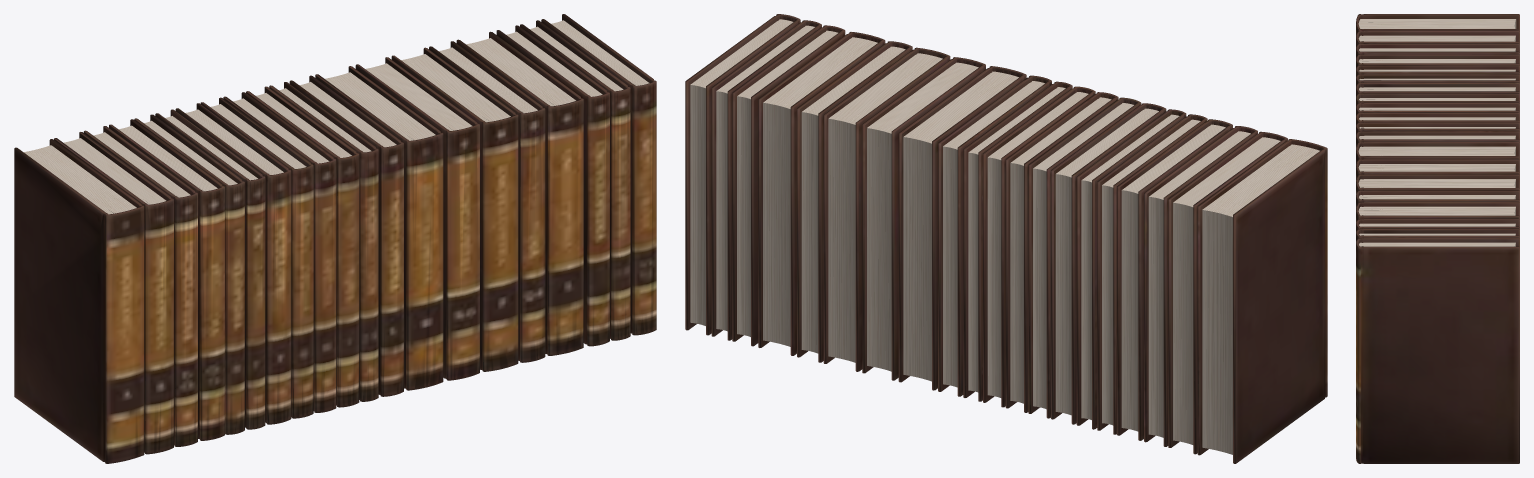
Rendered from book_encyclopedia_set_01.glb.
The picture shows the model from 3 angles, left to right: view 1: azimuth 30°, elevation 25°; view 2: azimuth 150°, elevation 25°; view 3: azimuth 270°, elevation 25°; orthographic projection. The views are drawn at different scales.
Visible parts, largest first — view 1: book_encyclopedia_set_01_book01, book_encyclopedia_set_01_book13, book_encyclopedia_set_01_book15, book_encyclopedia_set_01_book17, book_encyclopedia_set_01_book14, book_encyclopedia_set_01_book02, book_encyclopedia_set_01_book16, book_encyclopedia_set_01_book04, book_encyclopedia_set_01_book18, book_encyclopedia_set_01_book20, book_encyclopedia_set_01_book07, book_encyclopedia_set_01_book12 (+8 smaller); view 2: book_encyclopedia_set_01_book01, book_encyclopedia_set_01_book13, book_encyclopedia_set_01_book15, book_encyclopedia_set_01_book17, book_encyclopedia_set_01_book14, book_encyclopedia_set_01_book02, book_encyclopedia_set_01_book04, book_encyclopedia_set_01_book16, book_encyclopedia_set_01_book18, book_encyclopedia_set_01_book20, book_encyclopedia_set_01_book07, book_encyclopedia_set_01_book12 (+8 smaller); view 3: book_encyclopedia_set_01_book20, book_encyclopedia_set_01_book13, book_encyclopedia_set_01_book01, book_encyclopedia_set_01_book17, book_encyclopedia_set_01_book15, book_encyclopedia_set_01_book14, book_encyclopedia_set_01_book02, book_encyclopedia_set_01_book16, book_encyclopedia_set_01_book03, book_encyclopedia_set_01_book12, book_encyclopedia_set_01_book04, book_encyclopedia_set_01_book07 (+8 smaller).
Part boxes in pixels (x1,y1,x2,y2): book_encyclopedia_set_01_book01: (14,139,144,463); book_encyclopedia_set_01_book13: (315,66,443,390); book_encyclopedia_set_01_book15: (391,47,518,371); book_encyclopedia_set_01_book17: (456,31,583,355); book_encyclopedia_set_01_book14: (355,57,479,380); book_encyclopedia_set_01_book02: (54,132,173,454); book_encyclopedia_set_01_book16: (429,41,545,362); book_encyclopedia_set_01_book04: (109,119,224,440); book_encyclopedia_set_01_book18: (496,25,609,346); book_encyclopedia_set_01_book20: (541,14,656,335); book_encyclopedia_set_01_book07: (175,103,291,424); book_encyclopedia_set_01_book12: (289,75,403,396); book_encyclopedia_set_01_book01: (1197,139,1327,463); book_encyclopedia_set_01_book13: (898,66,1026,390); book_encyclopedia_set_01_book15: (823,47,950,371); book_encyclopedia_set_01_book17: (758,32,885,355); book_encyclopedia_set_01_book14: (862,57,985,380); book_encyclopedia_set_01_book02: (1168,131,1287,454); book_encyclopedia_set_01_book04: (1117,119,1232,440); book_encyclopedia_set_01_book16: (797,41,912,362); book_encyclopedia_set_01_book18: (732,25,845,346); book_encyclopedia_set_01_book20: (685,14,800,335); book_encyclopedia_set_01_book07: (1051,103,1166,424); book_encyclopedia_set_01_book12: (938,75,1051,396); book_encyclopedia_set_01_book20: (1356,238,1519,463); book_encyclopedia_set_01_book13: (1356,142,1519,165); book_encyclopedia_set_01_book01: (1356,14,1519,35); book_encyclopedia_set_01_book17: (1356,202,1519,221); book_encyclopedia_set_01_book15: (1356,174,1519,194); book_encyclopedia_set_01_book14: (1356,159,1519,180); book_encyclopedia_set_01_book02: (1356,30,1519,47); book_encyclopedia_set_01_book16: (1356,190,1519,222); book_encyclopedia_set_01_book03: (1356,43,1519,58); book_encyclopedia_set_01_book12: (1356,131,1519,149); book_encyclopedia_set_01_book04: (1356,54,1519,69); book_encyclopedia_set_01_book07: (1356,82,1519,96).
Bounding box in the file's own units: 0.5513 × 0.2374 × 0.1631.
Materials: 2 (2 with a texture image).
